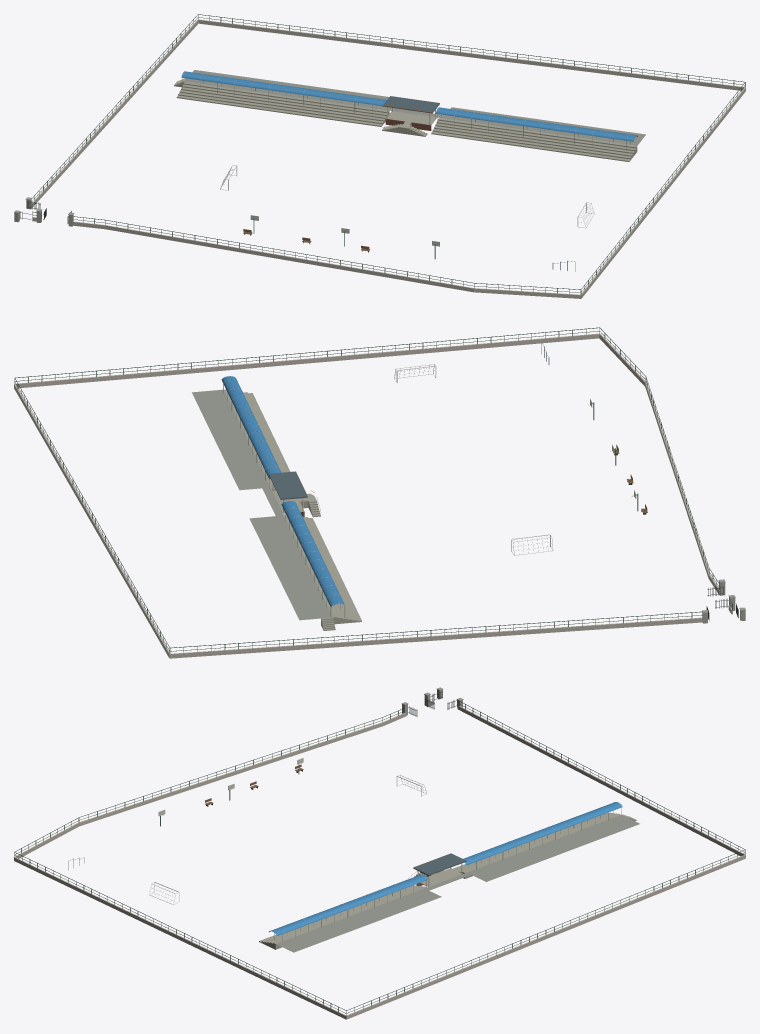
3 views of the same model, one above another, from view 1: azimuth 30°, elevation 25°; view 2: azimuth 150°, elevation 25°; view 3: azimuth 270°, elevation 25° (orthographic). The views are drawn at different scales.
Parts seen in each view (by area): view 1: site-wall-concrete, site-fence, main-front-approach-platform-Y1.4, stand-west-curved-open-canopy, stand-east-curved-open-canopy, stand-west-tread-3, stand-west-tread-4, stand-west-tread-1, stand-west-tread-2, stand-west-tread-5, stand-west-tread-6, stand-east-tread-6 (+6 smaller); view 2: site-wall-concrete, main-front-approach-platform-Y1.4, site-fence, stand-west-curved-open-canopy, stand-east-curved-open-canopy, podium-flat-grey-roof, stand-west-tread-2; view 3: site-wall-concrete, main-front-approach-platform-Y1.4, site-fence, stand-west-curved-open-canopy, stand-east-curved-open-canopy, podium-flat-grey-roof.
Part boxes in pixels (x1,y1,x2,y2): site-wall-concrete: [30, 19, 745, 298]; site-fence: [31, 14, 745, 294]; main-front-approach-platform-Y1.4: [185, 70, 645, 145]; stand-west-curved-open-canopy: [181, 71, 386, 106]; stand-east-curved-open-canopy: [436, 107, 637, 141]; stand-west-tread-3: [179, 90, 385, 123]; stand-west-tread-4: [181, 87, 386, 121]; stand-west-tread-1: [176, 95, 382, 126]; stand-west-tread-2: [178, 92, 383, 124]; stand-west-tread-5: [182, 84, 388, 116]; stand-west-tread-6: [183, 81, 389, 114]; stand-east-tread-6: [438, 117, 637, 152]; site-wall-concrete: [14, 333, 732, 658]; main-front-approach-platform-Y1.4: [192, 389, 332, 620]; site-fence: [14, 327, 732, 653]; stand-west-curved-open-canopy: [281, 501, 344, 607]; stand-east-curved-open-canopy: [221, 376, 281, 479]; podium-flat-grey-roof: [268, 471, 307, 499]; stand-west-tread-2: [303, 517, 357, 622]; site-wall-concrete: [14, 700, 745, 1019]; main-front-approach-platform-Y1.4: [276, 815, 639, 952]; site-fence: [14, 695, 745, 1015]; stand-west-curved-open-canopy: [463, 802, 622, 865]; stand-east-curved-open-canopy: [269, 874, 427, 935]; podium-flat-grey-roof: [413, 853, 466, 875].
Size of the model in its own units: 165 by 4.91 by 158.
